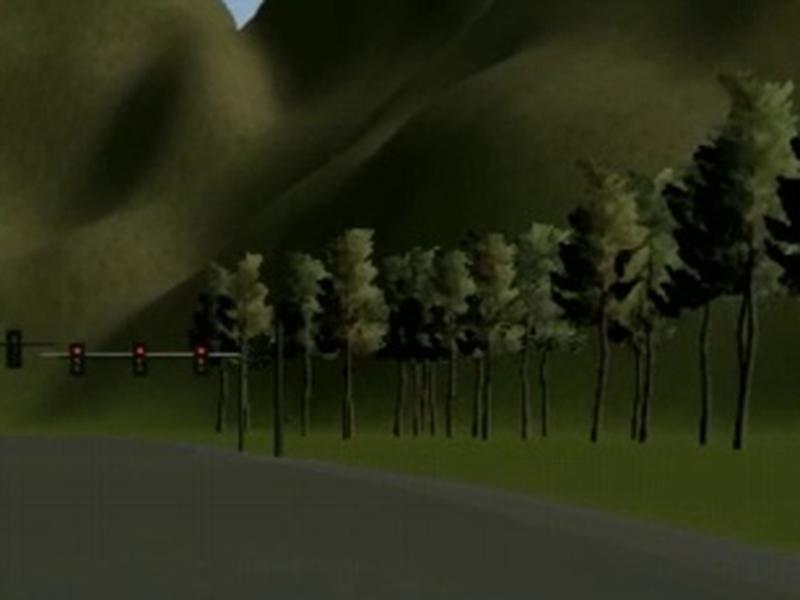Red: (191, 340, 209, 378), (69, 341, 87, 378), (133, 345, 149, 376)
